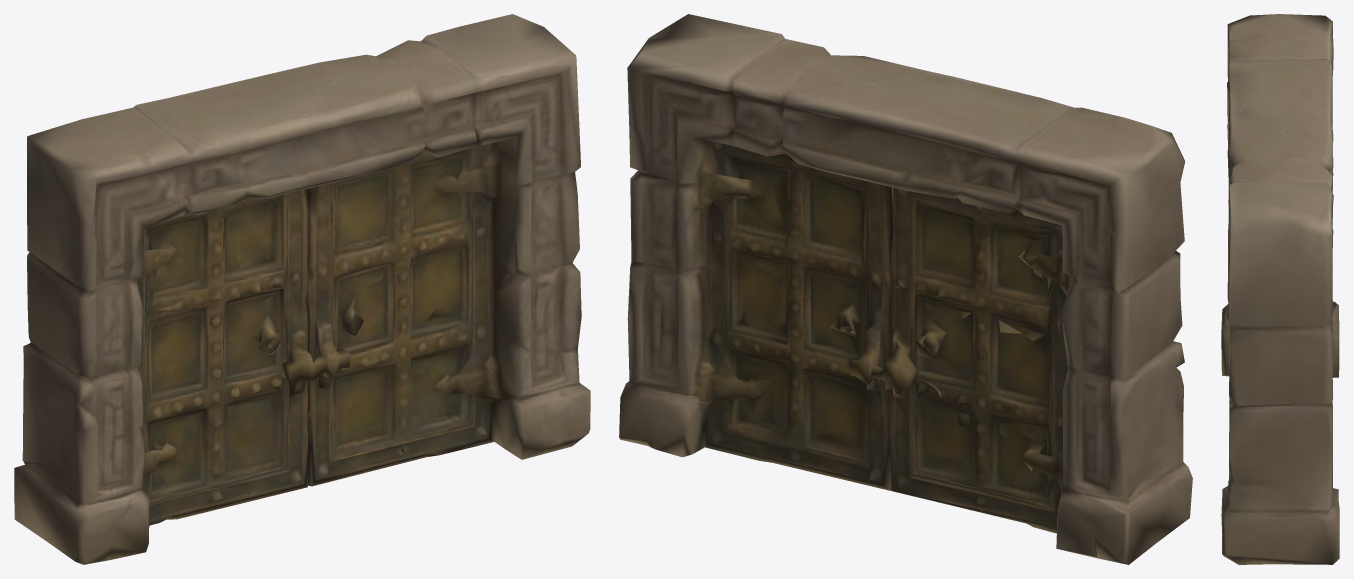
File: bronze_door.glb
3 views of the same model, side by side, from view 1: azimuth 30°, elevation 25°; view 2: azimuth 150°, elevation 25°; view 3: azimuth 270°, elevation 25° (orthographic). The views are drawn at different scales.
Parts seen in each view (by area): view 1: tripo_node_8fa2213a-bf69-44b8-ac73-bbac9302c748; view 2: tripo_node_8fa2213a-bf69-44b8-ac73-bbac9302c748; view 3: tripo_node_8fa2213a-bf69-44b8-ac73-bbac9302c748.
Part boxes in pixels (left/top/right/bottom): tripo_node_8fa2213a-bf69-44b8-ac73-bbac9302c748: left=14, top=14, right=590, bottom=564; tripo_node_8fa2213a-bf69-44b8-ac73-bbac9302c748: left=619, top=14, right=1192, bottom=564; tripo_node_8fa2213a-bf69-44b8-ac73-bbac9302c748: left=1221, top=14, right=1339, bottom=564.
Size of the model in its own units: 0.9815 by 0.7157 by 0.2252.
Materials: 1 (1 with a texture image).
